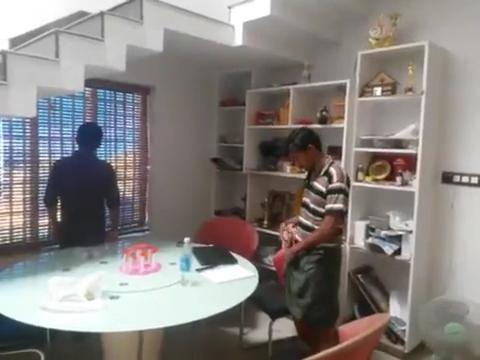chair: (193, 215, 259, 342), (239, 248, 291, 359), (300, 312, 390, 359)
closet_cabinet: (211, 40, 450, 353)
cup_glass_bottle: (118, 242, 161, 275)
floor: (1, 1, 234, 118)
paper_notebook: (191, 246, 255, 284)
person: (281, 126, 350, 353), (44, 122, 120, 249)
picture: (268, 189, 292, 229)
table_desk: (1, 238, 259, 359)
window: (1, 86, 147, 245)
